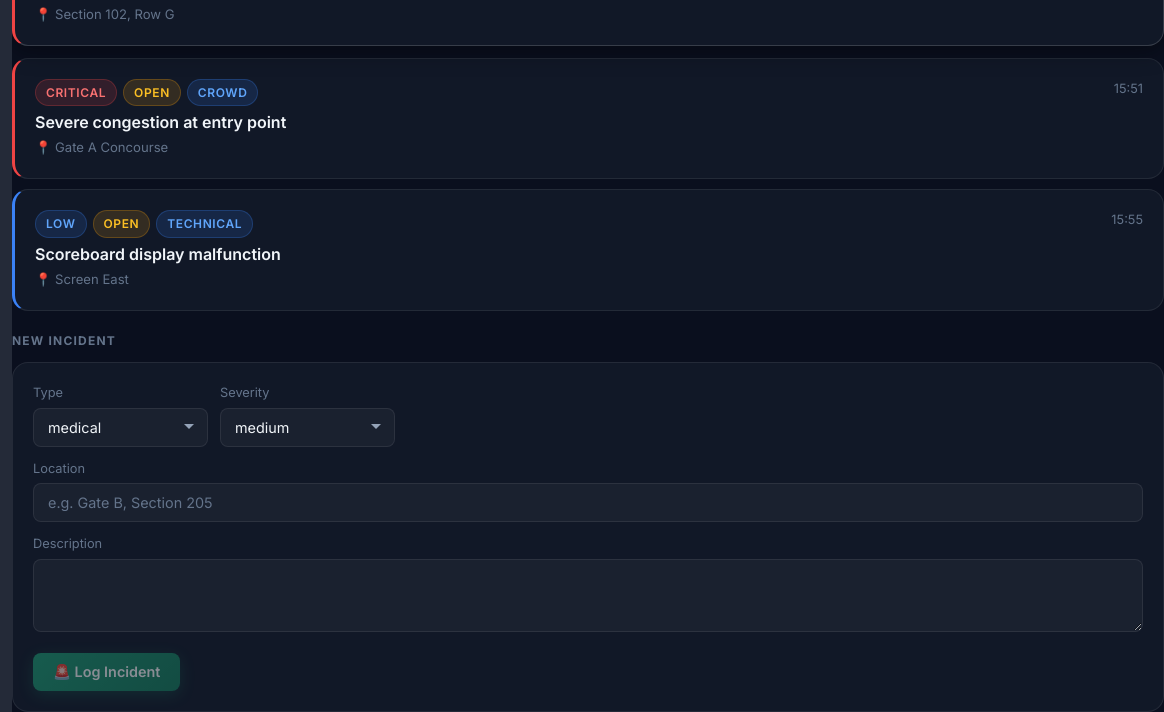
Test: OpsCommand › submit incident button enabled when form filled
(page scrolled)
Type "Gate B" into the field named "Incident location".
click(588, 503); type("Gate B")  # box [33, 483, 1143, 522]
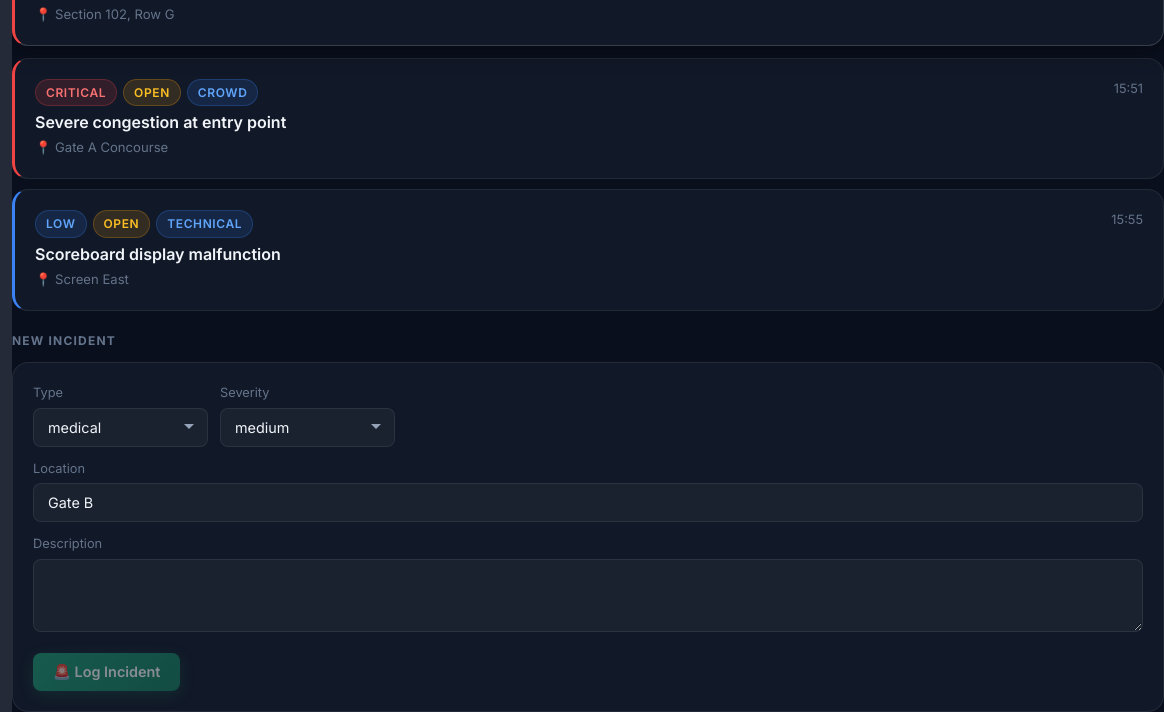
Type "Fan requires assistance" into the text box labelled "Description".
click(588, 595); type("Fan requires assistance")  # box [33, 559, 1143, 632]
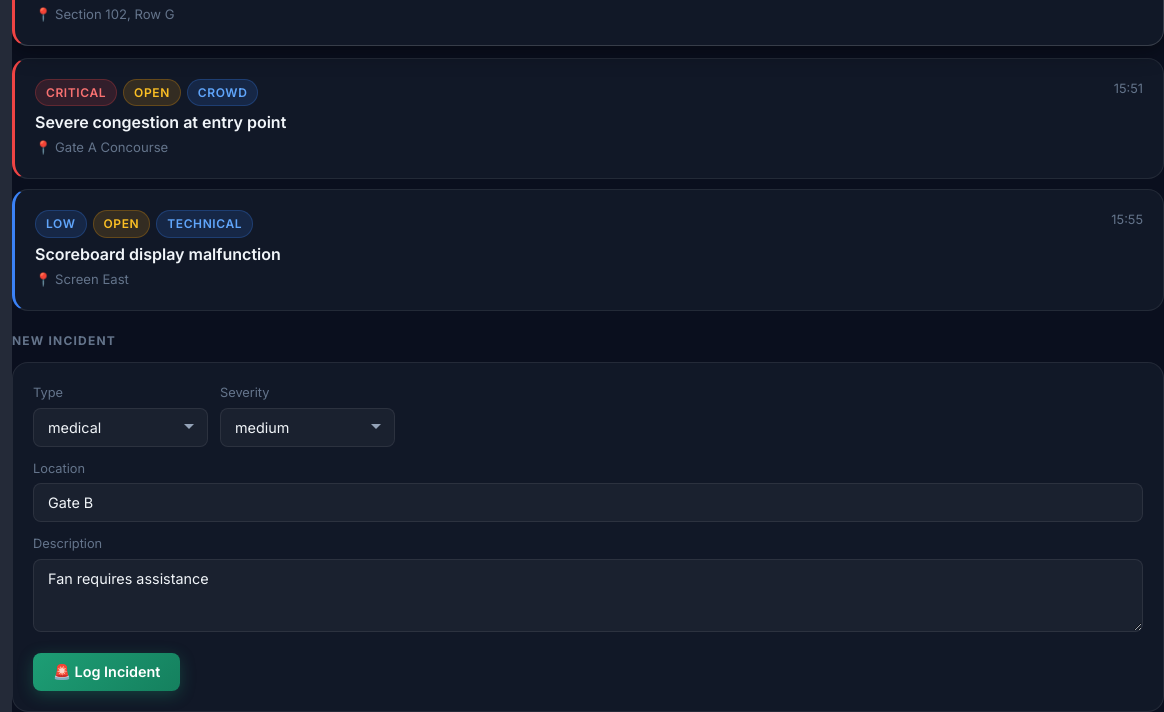
Expected: the button with aria-label "Submit incident report" is enabled, [33, 654, 180, 692]
